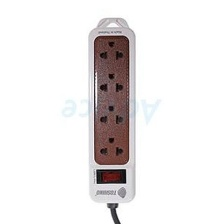three_eye_plug: (82, 20, 142, 210)
